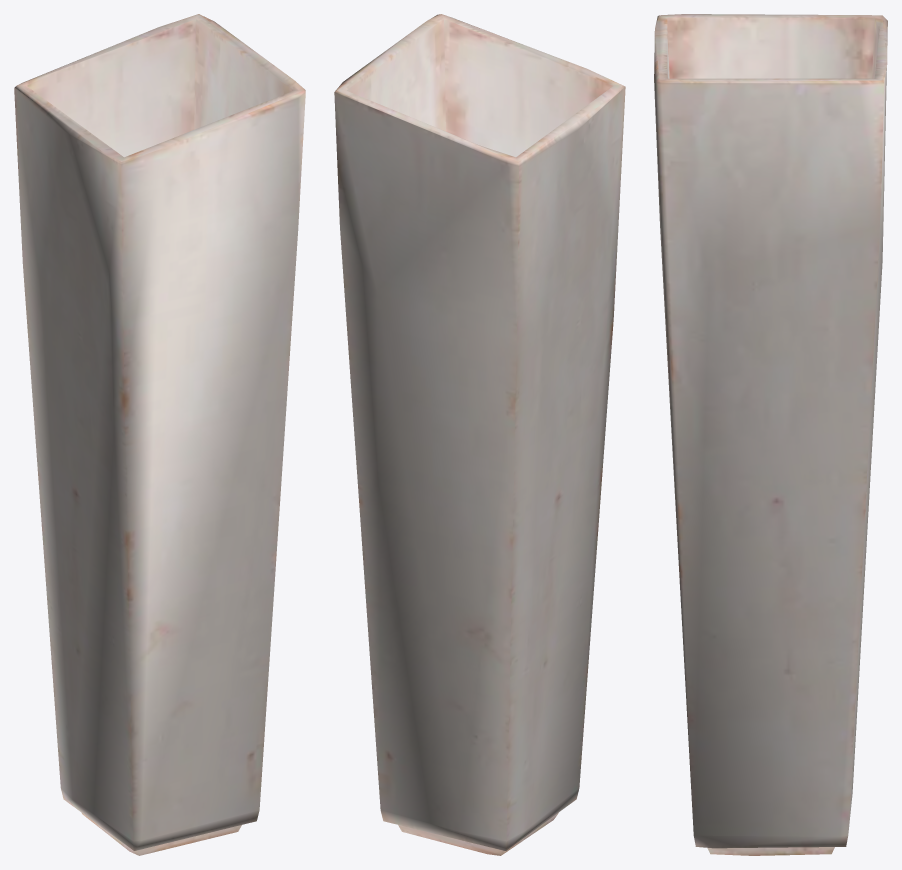
File: ceramic_vase_03.glb
3 views of the same model, side by side, from view 1: azimuth 30°, elevation 25°; view 2: azimuth 150°, elevation 25°; view 3: azimuth 270°, elevation 25° (orthographic). The views are drawn at different scales.
Visible parts, largest first — view 1: ceramic_vase_03; view 2: ceramic_vase_03; view 3: ceramic_vase_03.
Part boxes in pixels (bbox=[...]): ceramic_vase_03: bbox=[14, 14, 305, 855]; ceramic_vase_03: bbox=[334, 14, 625, 855]; ceramic_vase_03: bbox=[654, 14, 887, 855].
Size of the model in its own units: 0.1116 by 0.414 by 0.1103.
1 material, 1 textured.
